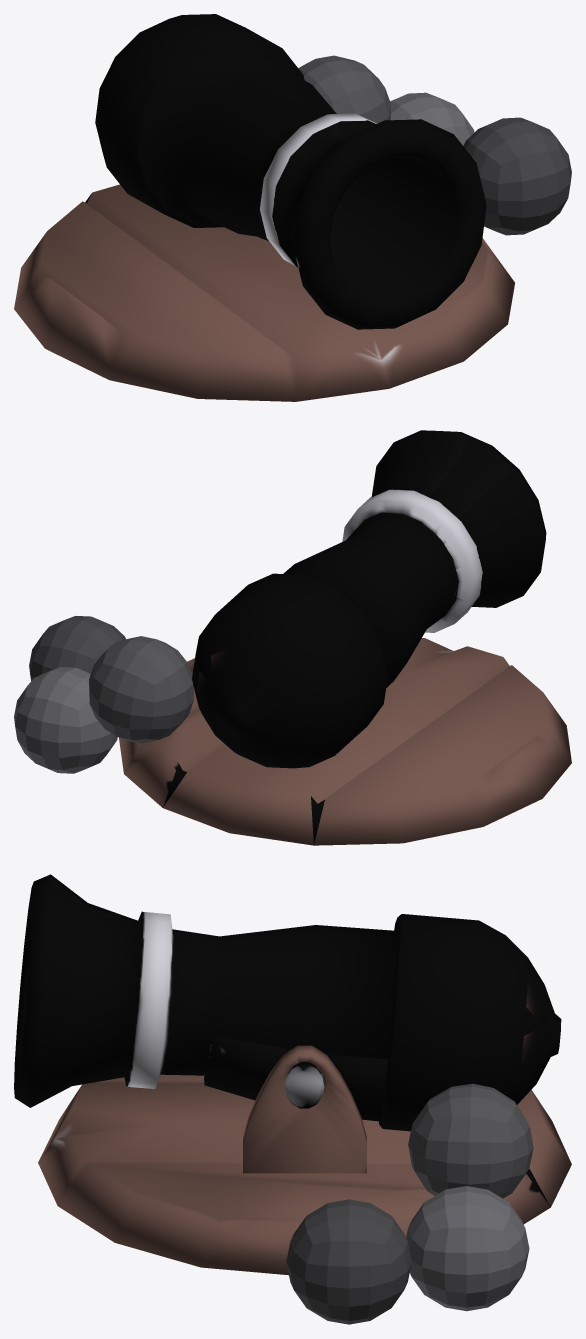
Rendered from cannon.glb.
3 views of the same model, one above another, from view 1: azimuth 30°, elevation 25°; view 2: azimuth 150°, elevation 25°; view 3: azimuth 270°, elevation 25° (orthographic). The views are drawn at different scales.
Visible parts, largest first — view 1: Roundcube.001; view 2: Roundcube.001; view 3: Roundcube.001.
Boxes of the visible parts, left/top/right/bottom form: Roundcube.001: left=14, top=14, right=571, bottom=401; Roundcube.001: left=14, top=430, right=571, bottom=845; Roundcube.001: left=14, top=874, right=571, bottom=1324.
Bounding box in the file's own units: 2.61 × 1.32 × 2.21.
1 material, 1 textured.
